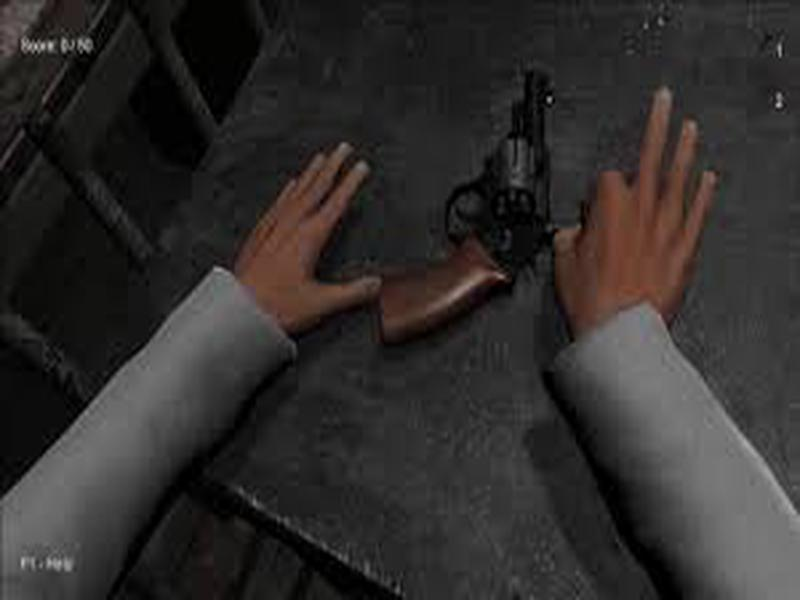gun: (380, 49, 556, 355)
